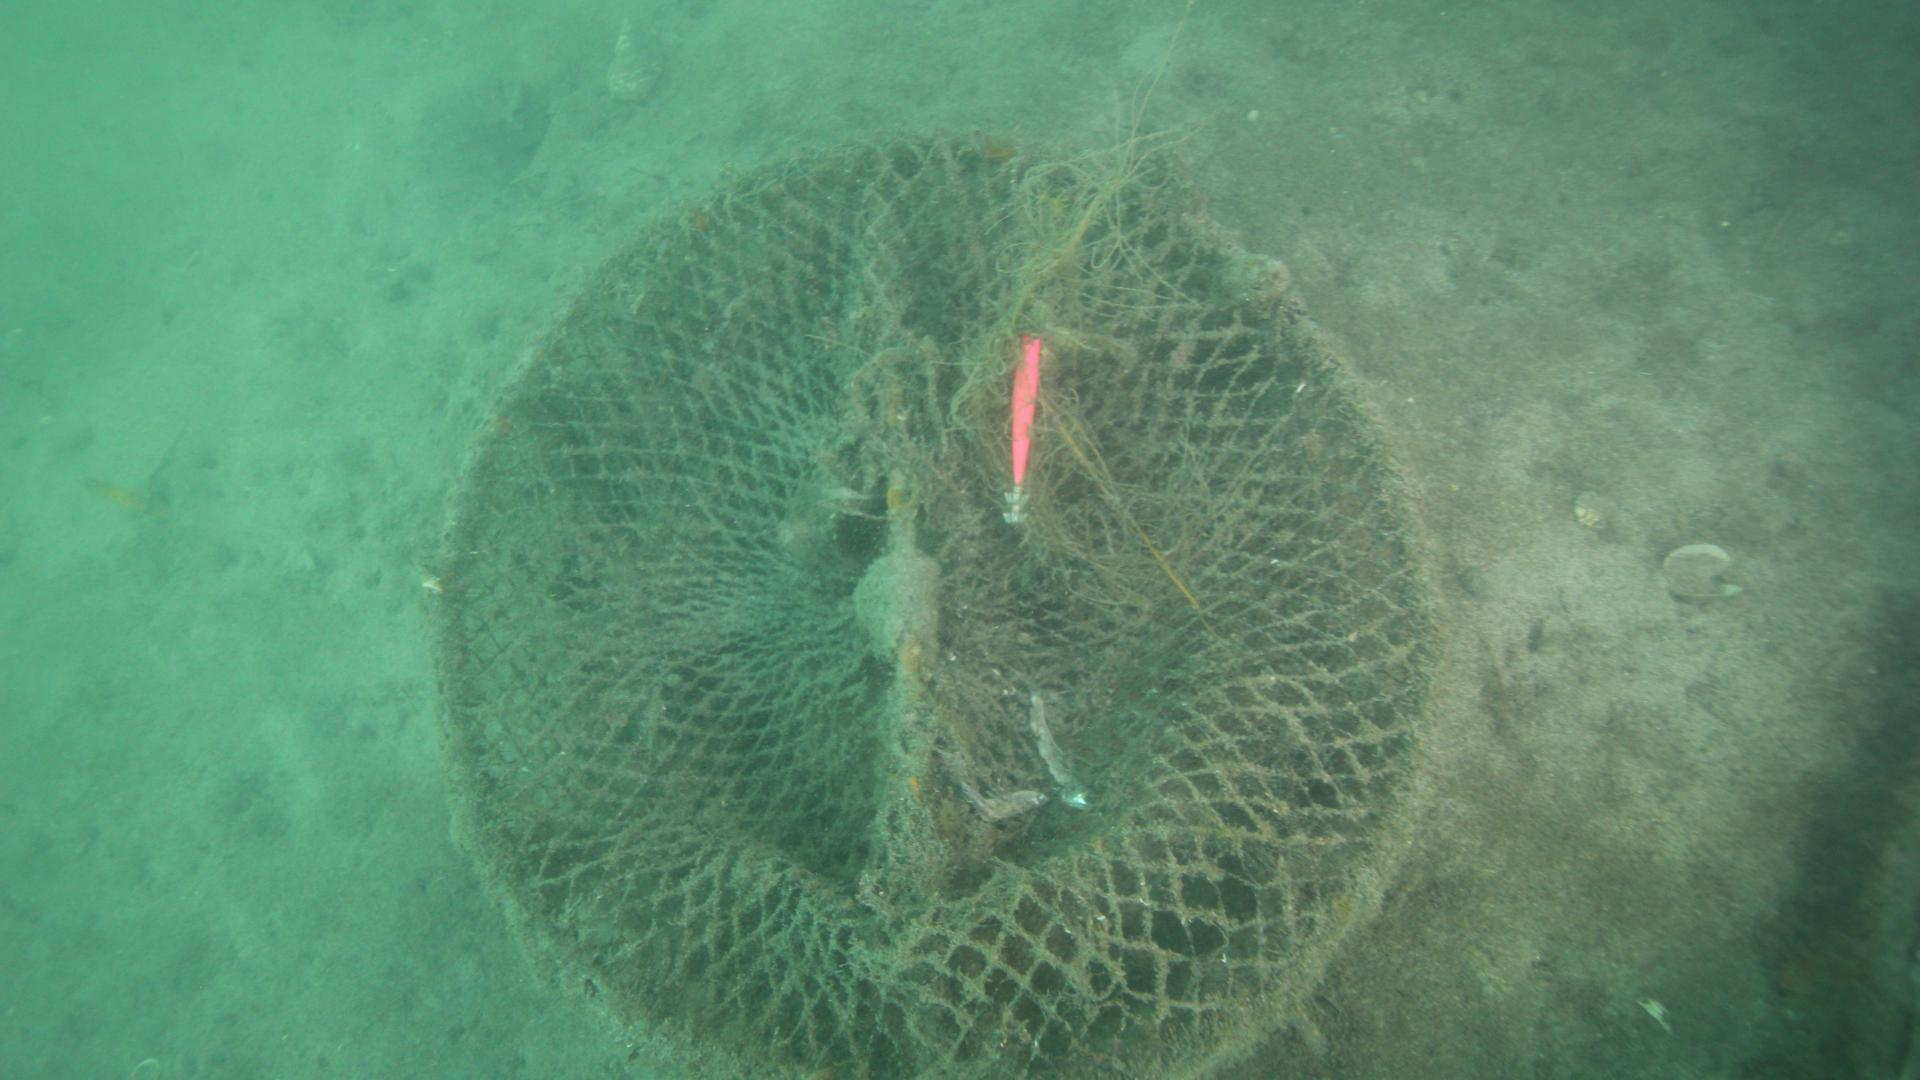circular fish trap: (427, 131, 1449, 1080)
